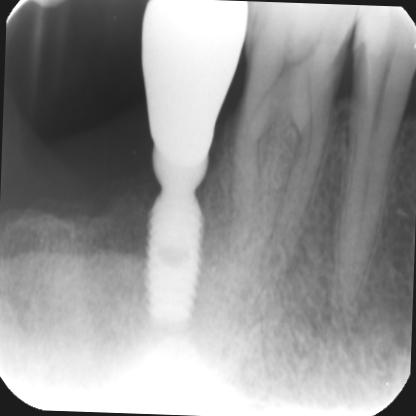Bicon: (134, 188, 217, 328)
